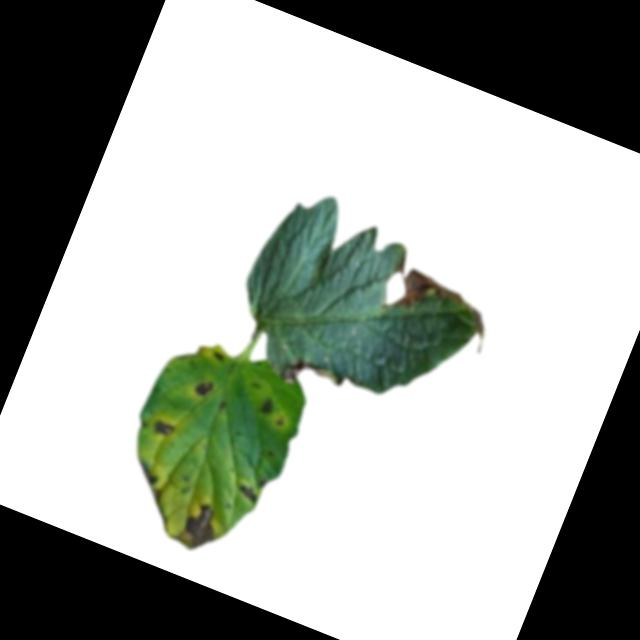Early_blight: (374, 253, 510, 357), (166, 493, 227, 558), (278, 349, 340, 400), (131, 459, 162, 488), (232, 482, 262, 505), (192, 376, 216, 402), (152, 419, 177, 442), (257, 396, 279, 420), (209, 350, 226, 365)
